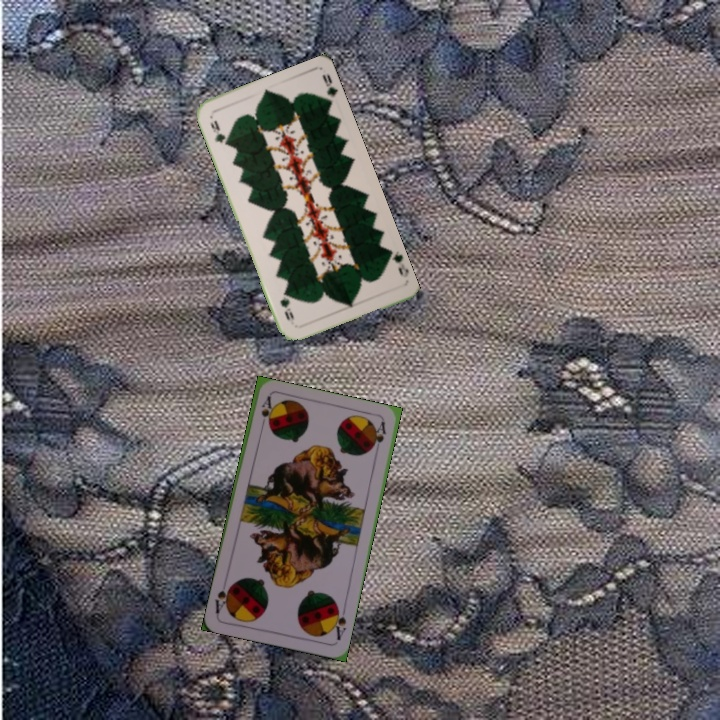G9: (384, 246, 411, 280), (206, 116, 231, 149)
SA: (328, 602, 349, 643), (256, 393, 274, 433)
